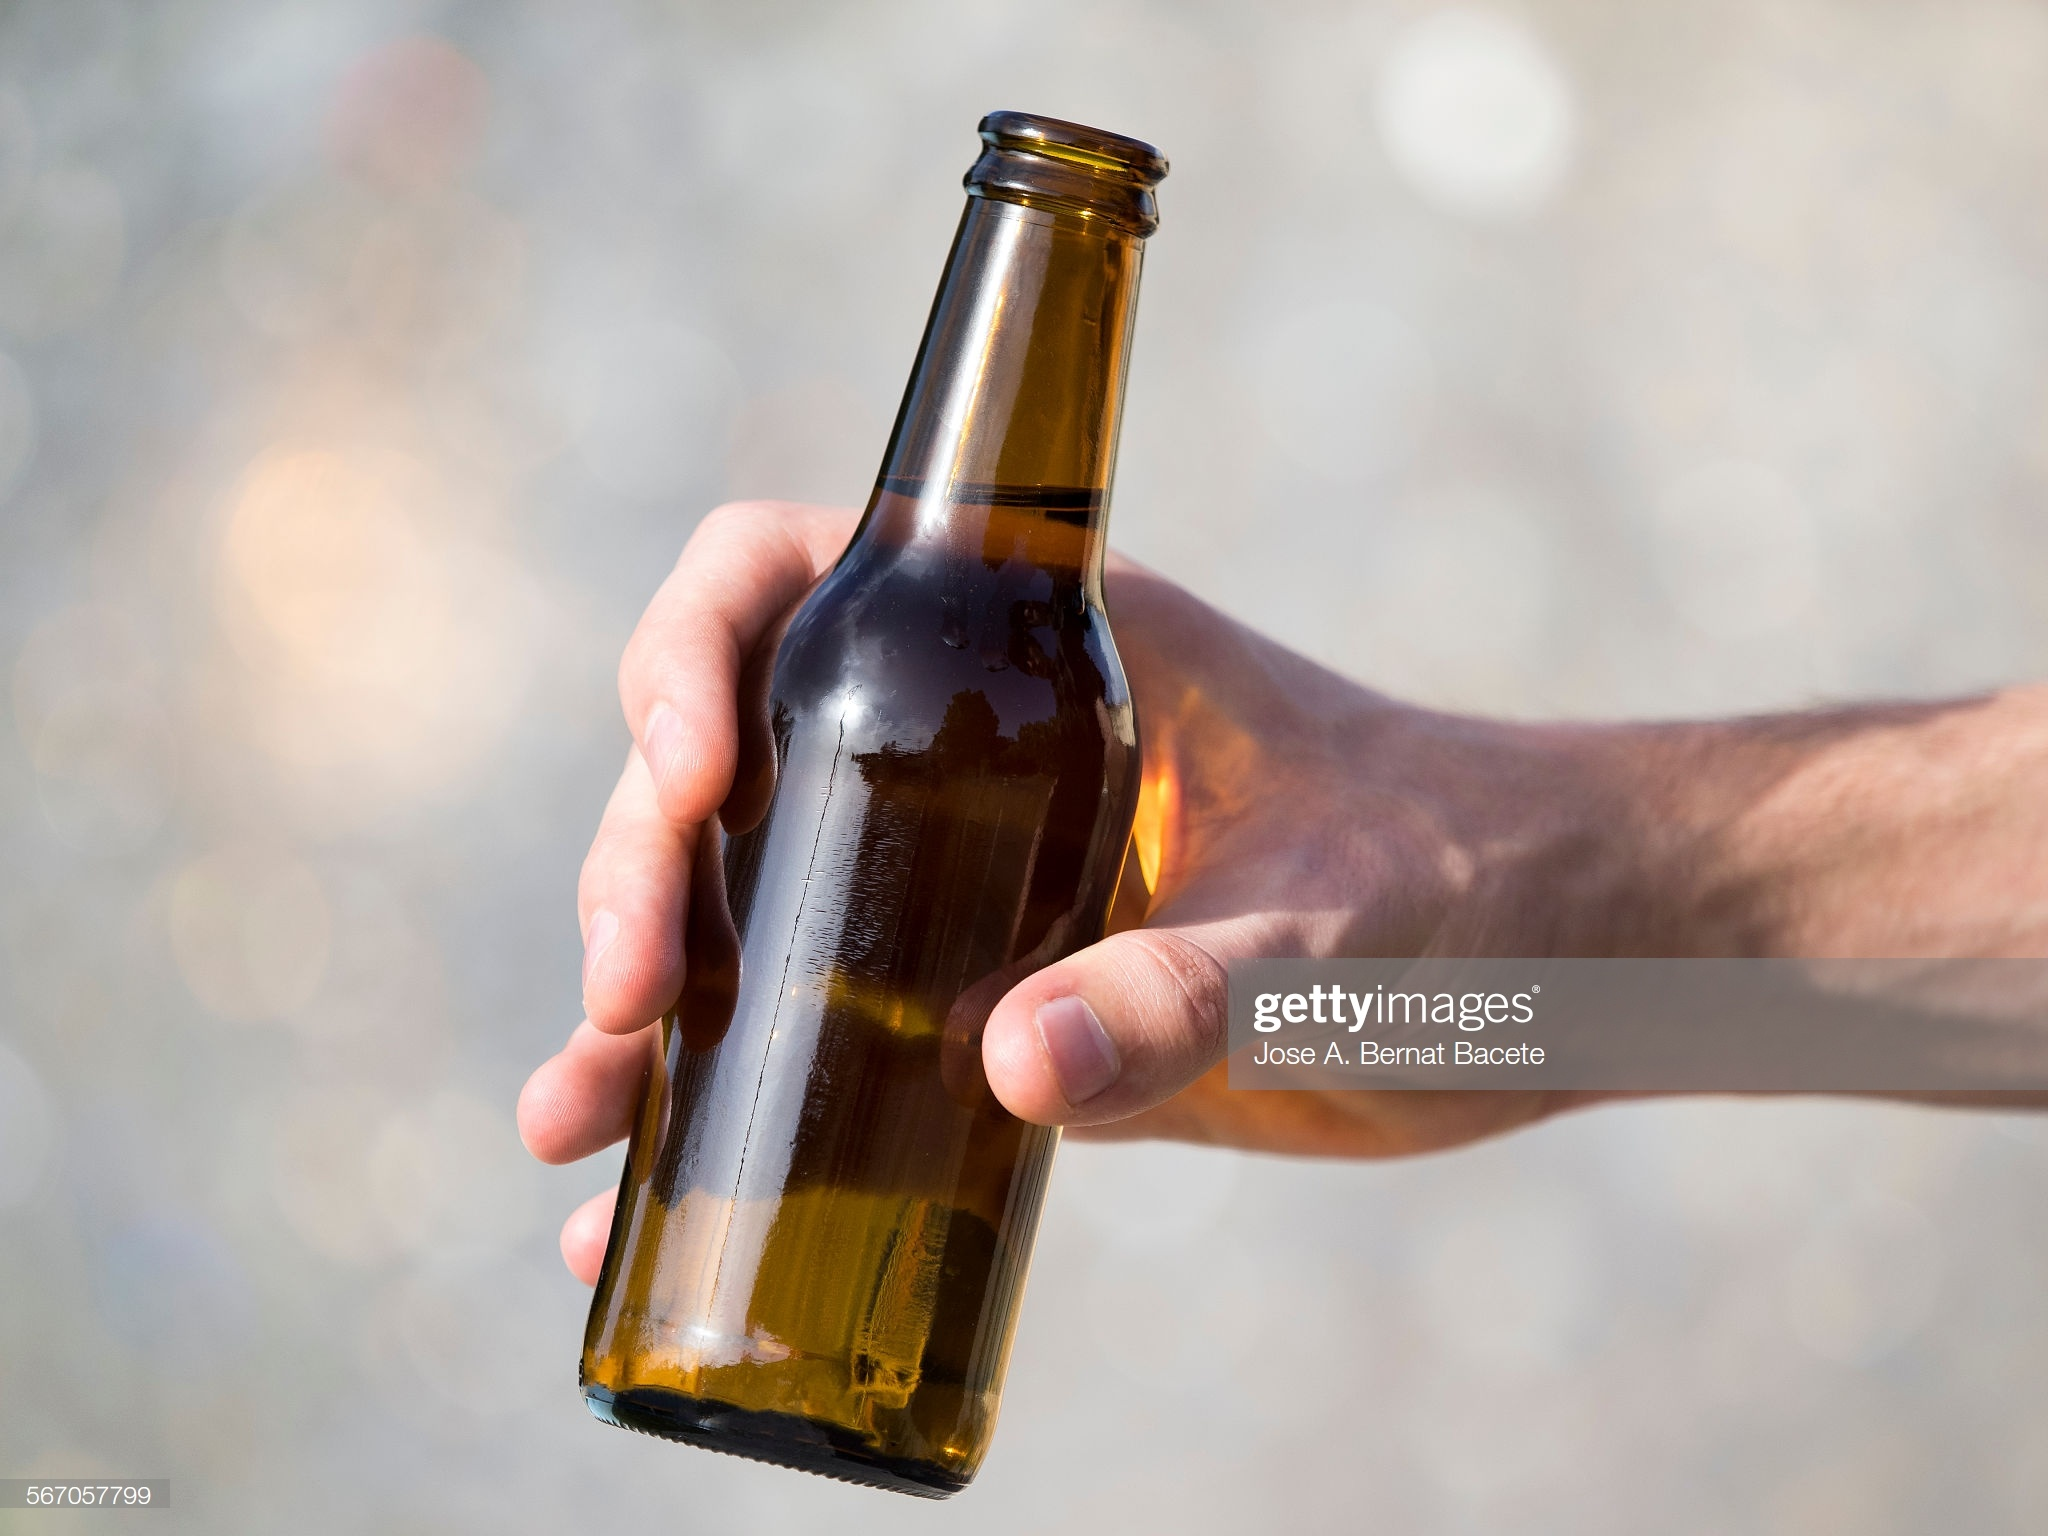beerBottle: (576, 110, 1171, 1491)
